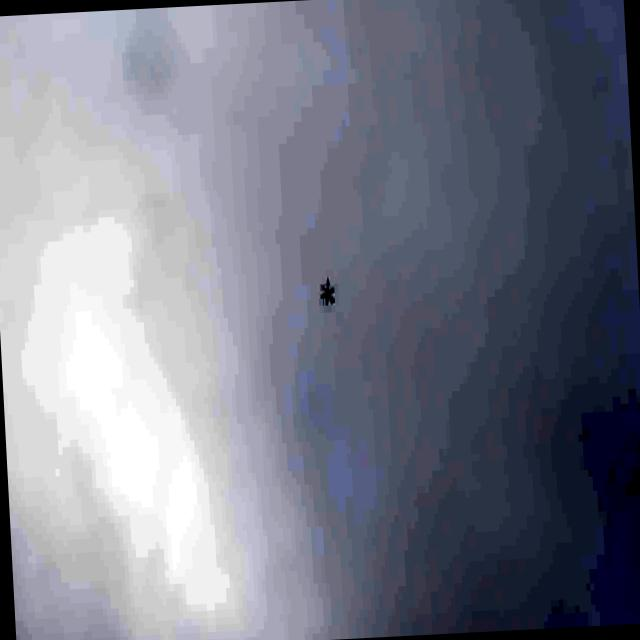drone: (318, 280, 336, 307)
